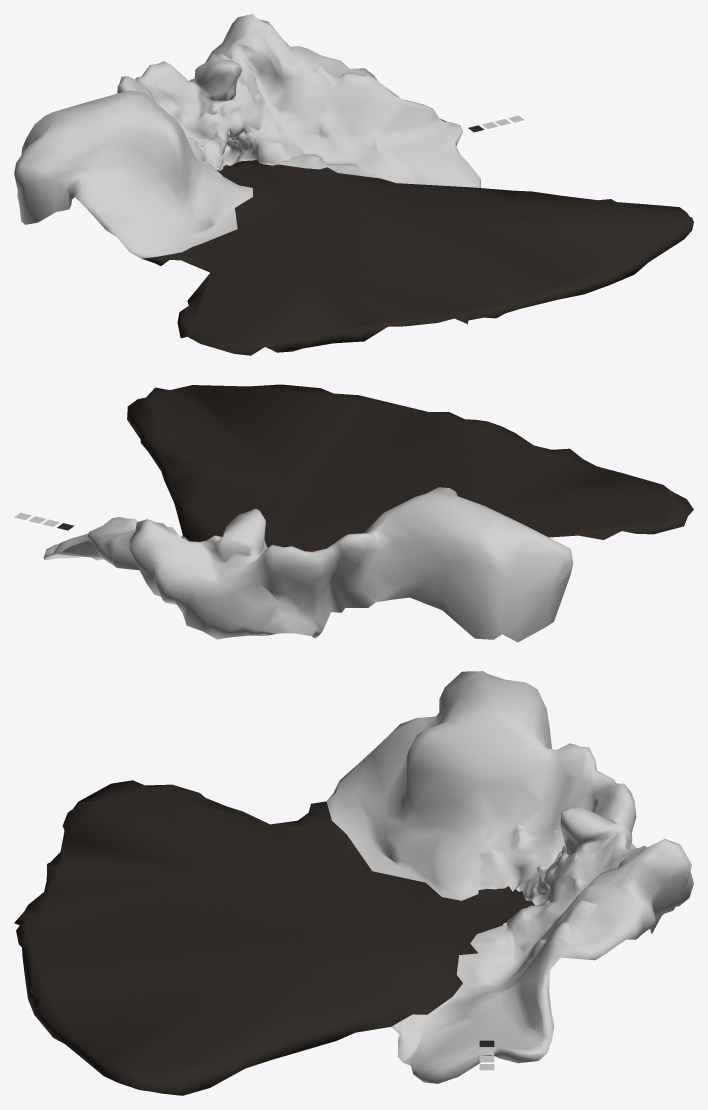
Rendered from RocketField.fbx.
3 renders of one model, top to bottom at view 1: azimuth 30°, elevation 25°; view 2: azimuth 150°, elevation 25°; view 3: azimuth 270°, elevation 25°, orthographic. The views are drawn at different scales.
Visible parts, largest first — view 1: Cube; view 2: Cube; view 3: Cube.
Part boxes in pixels (x1,y1,x2,y2): Cube: (14, 14, 693, 355); Cube: (14, 384, 693, 642); Cube: (14, 671, 693, 1095).
Bounding box in the file's own units: 101 × 28.42 × 92.03.
